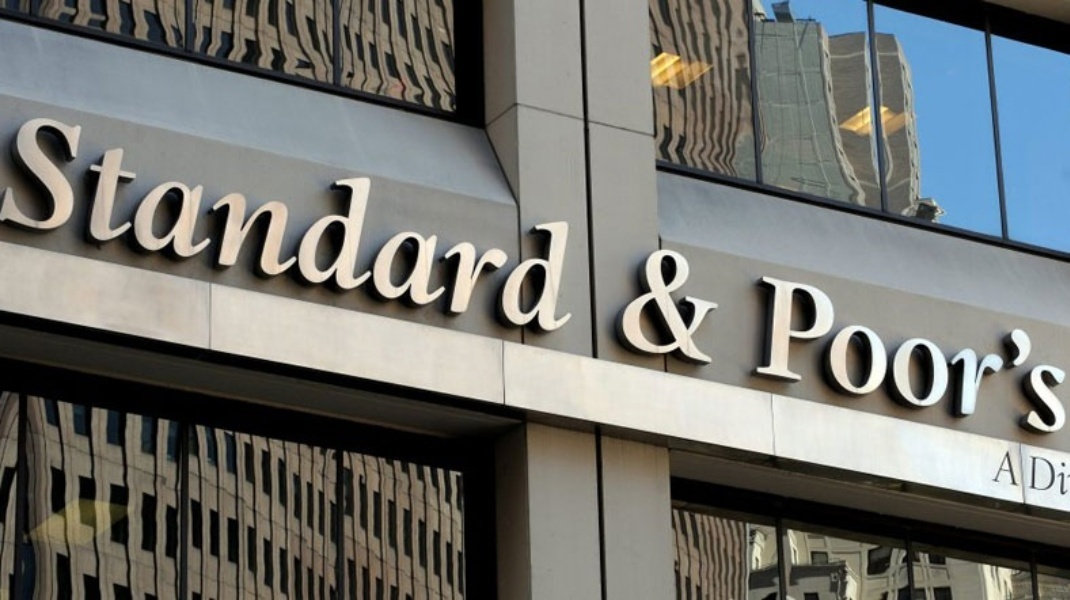text: (17, 110, 32, 341), (33, 110, 48, 341), (49, 110, 64, 341), (65, 110, 80, 341), (81, 110, 96, 341), (97, 110, 112, 341), (113, 110, 128, 341), (129, 110, 144, 341), (145, 110, 160, 341), (161, 110, 176, 341), (177, 110, 192, 341), (193, 110, 208, 341), (209, 110, 224, 341), (225, 110, 240, 341), (241, 110, 256, 341), (257, 110, 272, 341), (273, 110, 288, 341), (289, 110, 304, 341), (305, 110, 320, 341), (321, 110, 336, 341), (337, 110, 352, 341), (353, 110, 368, 341), (369, 110, 384, 341), (385, 110, 400, 341), (401, 110, 416, 341), (417, 110, 432, 341), (433, 110, 448, 341), (449, 110, 464, 341), (465, 110, 480, 341), (481, 110, 496, 341), (497, 110, 512, 341), (513, 110, 528, 341), (529, 110, 544, 341), (545, 110, 560, 341), (561, 110, 576, 341), (769, 269, 784, 442), (785, 269, 800, 442), (801, 269, 816, 442), (817, 269, 832, 442), (833, 269, 848, 442), (849, 269, 864, 442), (865, 269, 880, 442), (881, 269, 896, 442), (897, 269, 912, 442), (913, 269, 928, 442), (929, 269, 944, 442), (945, 269, 960, 442), (961, 269, 976, 442), (977, 269, 992, 442), (993, 269, 1008, 442), (1009, 269, 1024, 442), (1025, 269, 1040, 442), (1041, 269, 1056, 442), (1057, 269, 1070, 442), (641, 239, 656, 371), (657, 239, 672, 371), (673, 239, 688, 371), (689, 239, 704, 371), (705, 239, 719, 371), (761, 269, 768, 442), (631, 239, 640, 371), (577, 110, 580, 341), (1041, 455, 1056, 497), (1026, 455, 1040, 497), (994, 450, 1008, 488), (1057, 455, 1069, 497), (1009, 450, 1022, 488), (14, 110, 16, 341)
